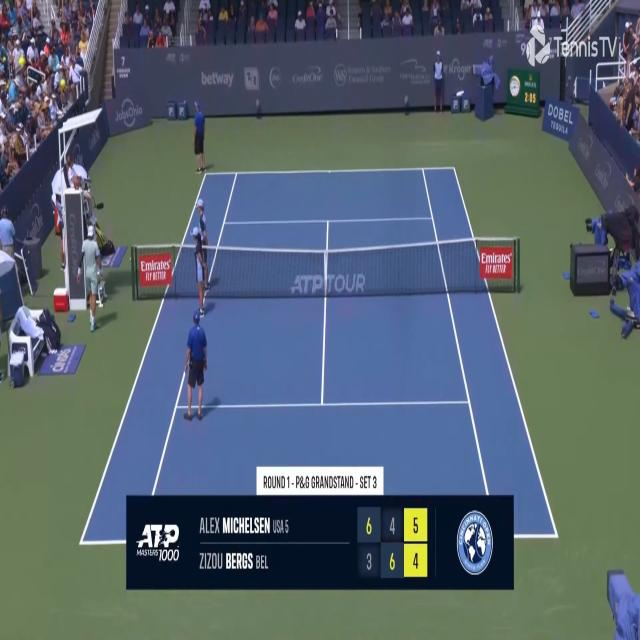tennis-player: (77, 220, 104, 335)
